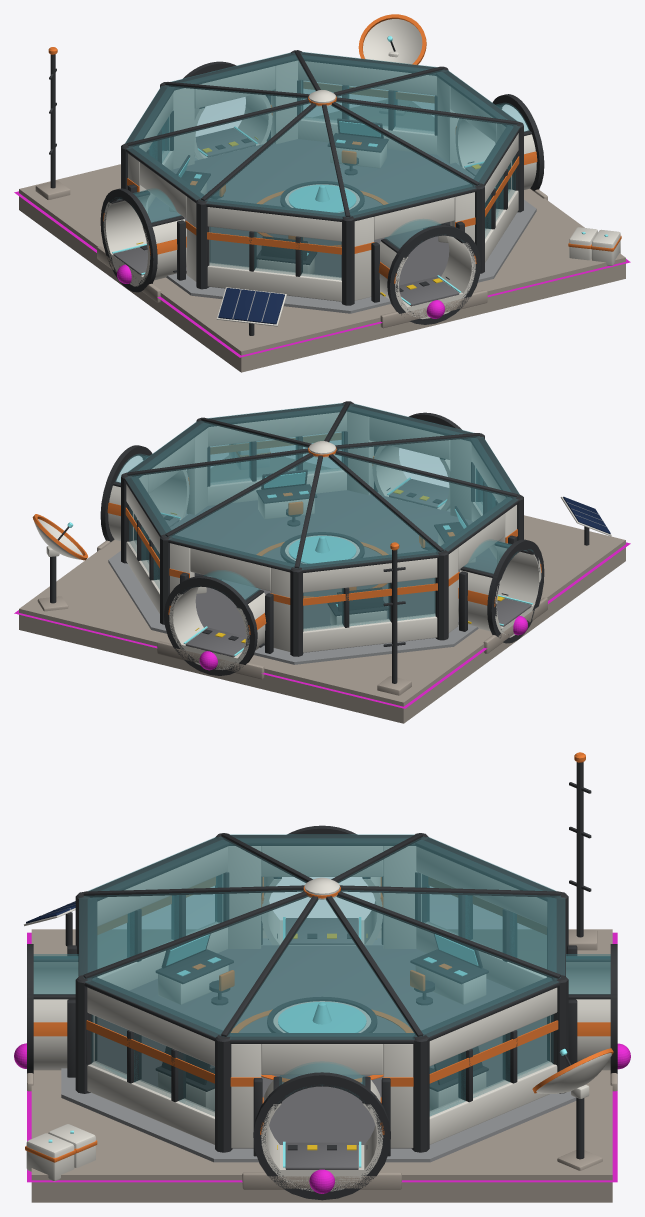
File: control_room.gltf
The picture shows the model from 3 angles, top to bottom: view 1: azimuth 30°, elevation 25°; view 2: azimuth 150°, elevation 25°; view 3: azimuth 270°, elevation 25°; orthographic projection. The views are drawn at different scales.
Visible parts, largest first — view 1: ControlRoom, %P%Footprint; view 2: ControlRoom, %P%Footprint; view 3: ControlRoom, %P%Footprint.
Part boxes in pixels (x1=…): ControlRoom: x1=19, y1=14, x2=625, y2=372; %P%Footprint: x1=14, y1=191, x2=630, y2=357; ControlRoom: x1=19, y1=401, x2=625, y2=723; %P%Footprint: x1=14, y1=542, x2=630, y2=708; ControlRoom: x1=24, y1=752, x2=617, y2=1202; %P%Footprint: x1=27, y1=932, x2=617, y2=1182.
Size of the model in its own units: 6.26 by 2.43 by 6.27.
